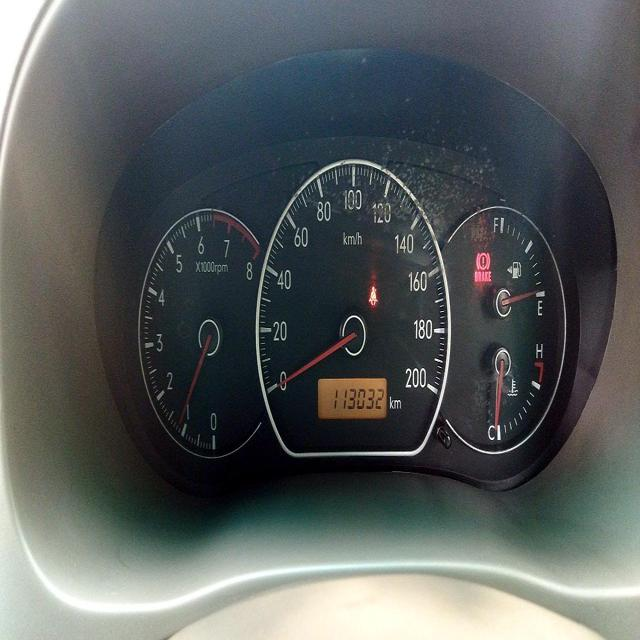odometer: (333, 386, 384, 411)
